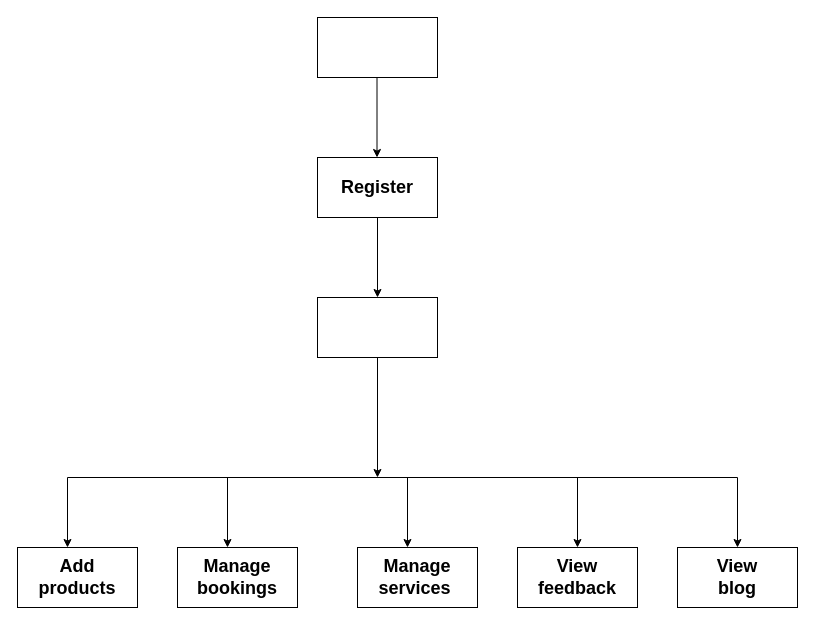
The diagram is 815 pixels wide and 625 high, and some of its shapes have lost their labels. The centre of each missing label's shape, as x and y in pixels:
"Login" goes at point 377,327.
"Shopowner" goes at point 377,47.
